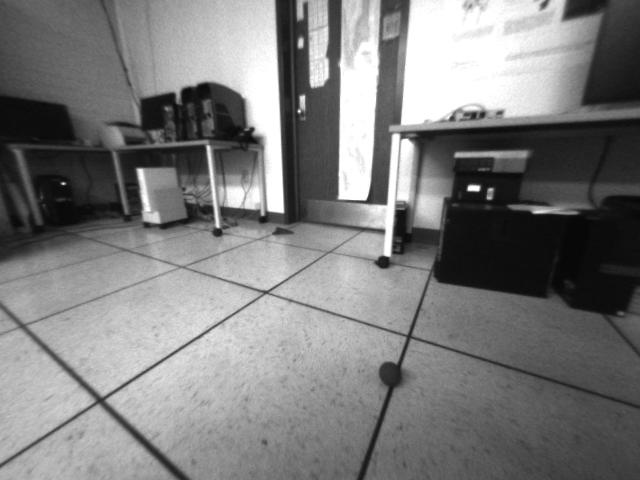dogtoy: (370, 353, 411, 392)
